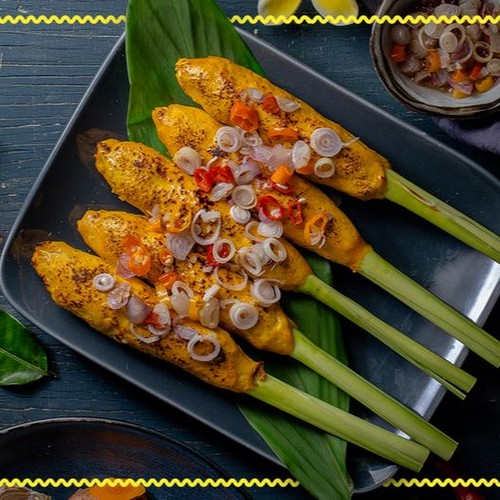sate lilit: (62, 142, 491, 410)
